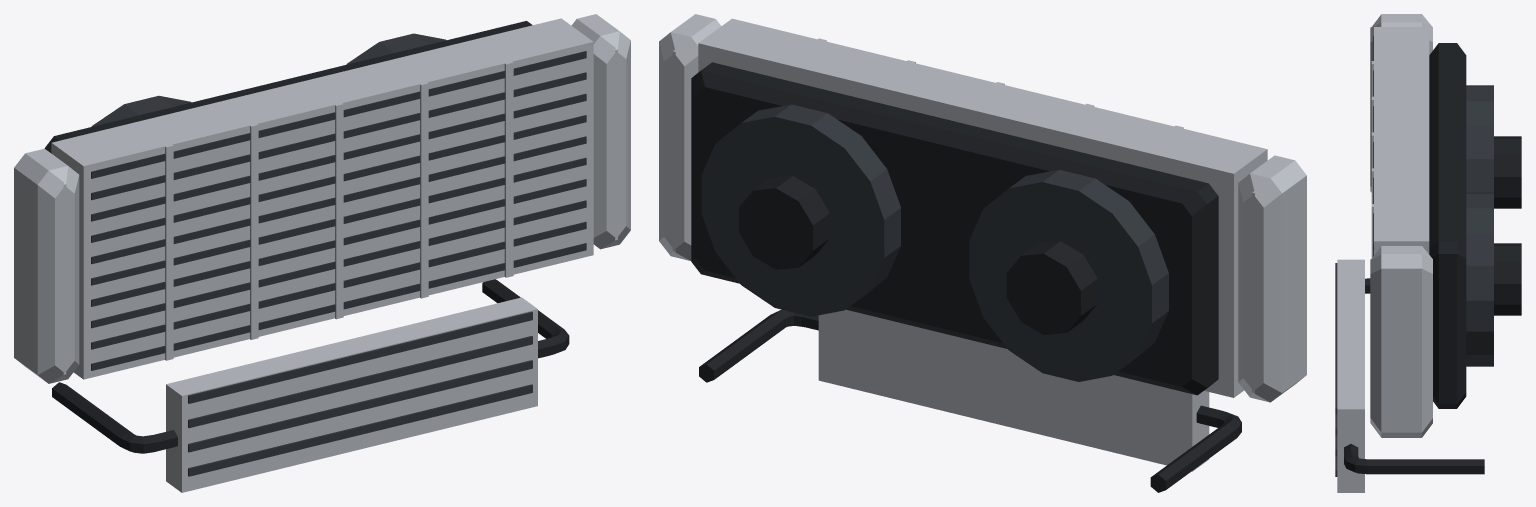
The model's file is ridgeback_4x4.glb.
The picture shows the model from 3 angles, left to right: view 1: azimuth 30°, elevation 25°; view 2: azimuth 150°, elevation 25°; view 3: azimuth 270°, elevation 25°; orthographic projection. The views are drawn at different scales.
Visible parts, largest first — view 1: model; view 2: model; view 3: model.
Part boxes in pixels (box(x1,y1,x2,y2)): model: box(14, 14, 630, 492); model: box(659, 14, 1306, 492); model: box(1335, 14, 1521, 492).
Size of the model in its own units: 0.64 by 0.34 by 0.202.
1 material, 1 textured.
